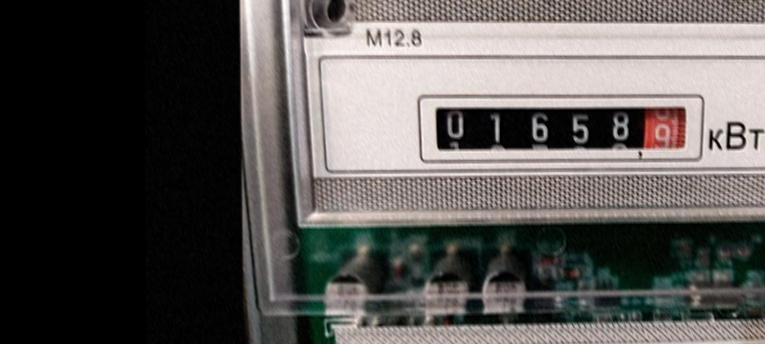0: (444, 108, 465, 138)
1: (487, 111, 505, 143)
5: (569, 112, 591, 143)
6: (529, 109, 550, 142)
8: (610, 108, 631, 141)
9: (650, 122, 672, 150)
screen: (408, 83, 709, 170)
